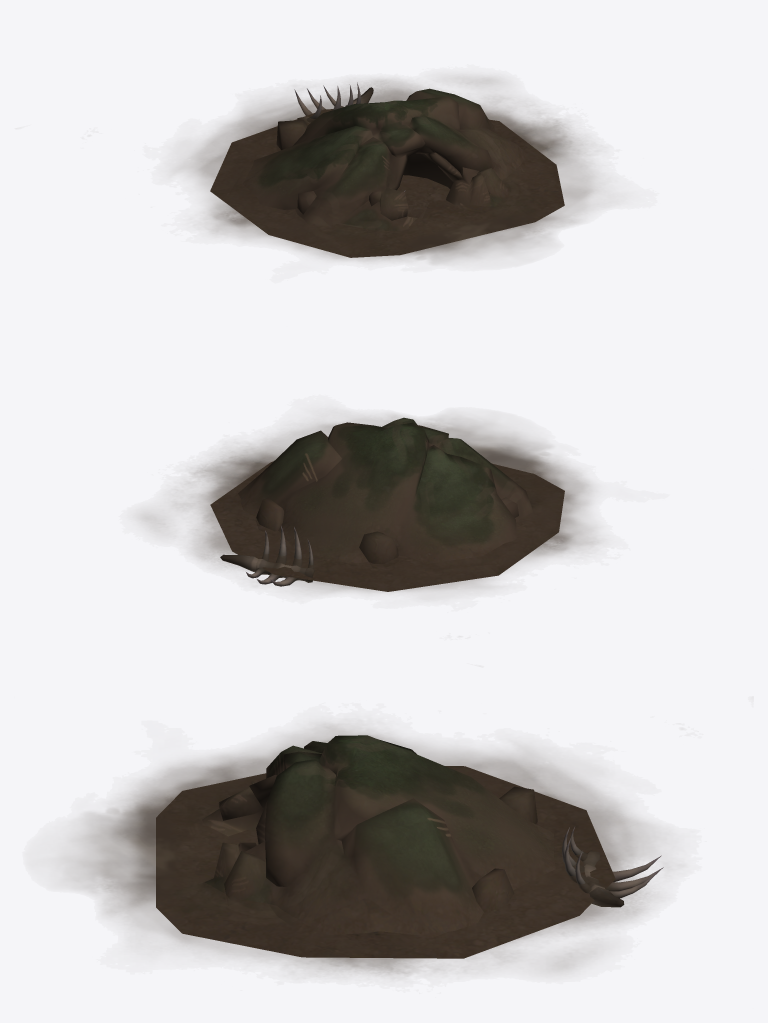
The picture shows the model from 3 angles, top to bottom: view 1: azimuth 30°, elevation 25°; view 2: azimuth 150°, elevation 25°; view 3: azimuth 270°, elevation 25°; orthographic projection. The views are drawn at different scales.
Parts seen in each view (by area): view 1: models_neutral_wolf_den_b-0-den, models_neutral_wolf_den_b-1-underlay, models_neutral_wolf_den_b-0-props; view 2: models_neutral_wolf_den_b-0-den, models_neutral_wolf_den_b-1-underlay, models_neutral_wolf_den_b-0-props; view 3: models_neutral_wolf_den_b-0-den, models_neutral_wolf_den_b-1-underlay, models_neutral_wolf_den_b-0-props.
Part boxes in pixels (x1,y1,x2,y2): models_neutral_wolf_den_b-0-den: [210, 88, 564, 257]; models_neutral_wolf_den_b-1-underlay: [179, 78, 596, 262]; models_neutral_wolf_den_b-0-props: [294, 82, 422, 217]; models_neutral_wolf_den_b-0-den: [210, 417, 564, 591]; models_neutral_wolf_den_b-1-underlay: [142, 415, 595, 591]; models_neutral_wolf_den_b-0-props: [220, 525, 314, 586]; models_neutral_wolf_den_b-0-den: [156, 735, 615, 958]; models_neutral_wolf_den_b-1-underlay: [65, 725, 653, 974]; models_neutral_wolf_den_b-0-props: [562, 827, 663, 907].
Size of the model in its own units: 14.41 by 3.68 by 14.41.
3 materials, 3 textured.
